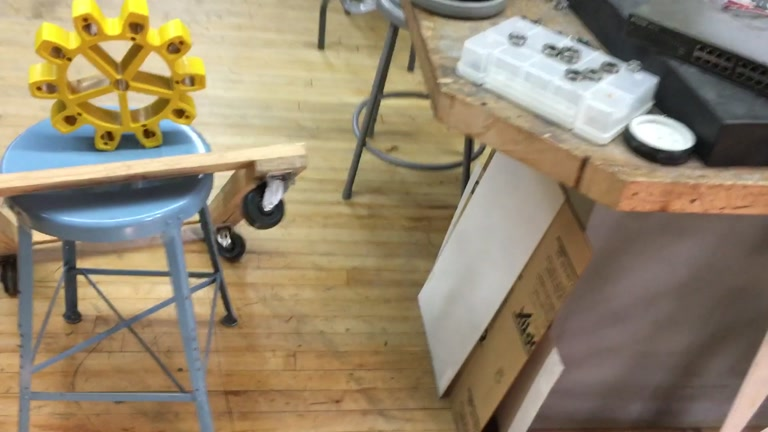gear: (28, 1, 208, 154)
